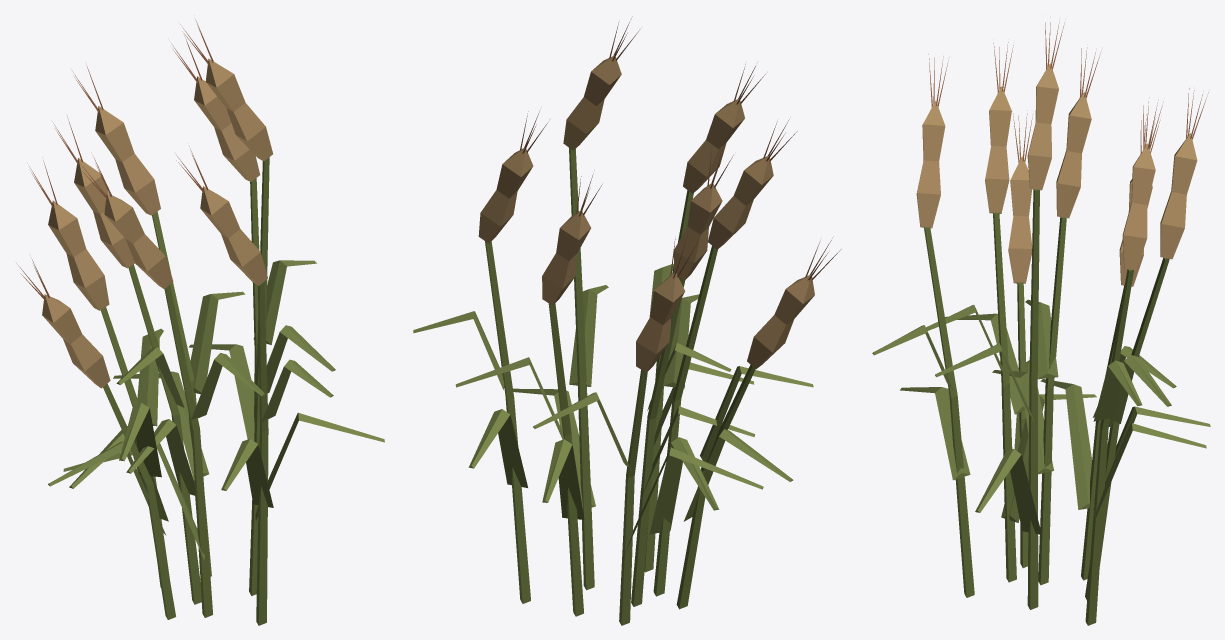
File: wheat-crop.glb
3 renders of one model, left to right at view 1: azimuth 30°, elevation 25°; view 2: azimuth 150°, elevation 25°; view 3: azimuth 270°, elevation 25°, orthographic. The views are drawn at different scales.
Visible parts, largest first — view 1: wheat-plant, yield-3-mesh, yield-5-mesh, yield-0-mesh, yield-4-mesh, yield-2-mesh, yield-6-mesh, yield-7-mesh, yield-1-mesh; view 2: wheat-plant, yield-6-mesh, yield-5-mesh, yield-2-mesh, yield-4-mesh, yield-0-mesh, yield-7-mesh, yield-1-mesh, yield-3-mesh; view 3: wheat-plant, yield-1-mesh, yield-3-mesh, yield-7-mesh, yield-0-mesh, yield-4-mesh, yield-2-mesh, yield-6-mesh, yield-5-mesh.
Boxes of the visible parts, box(x1,y1,x2,y2) form: wheat-plant: box(48, 157, 384, 625); yield-3-mesh: box(72, 65, 160, 215); yield-5-mesh: box(29, 160, 109, 310); yield-0-mesh: box(180, 19, 272, 161); yield-4-mesh: box(175, 146, 267, 285); yield-2-mesh: box(78, 152, 173, 289); yield-6-mesh: box(16, 258, 110, 388); yield-7-mesh: box(171, 35, 260, 181); yield-1-mesh: box(52, 116, 134, 268); wheat-plant: box(413, 148, 813, 625); yield-6-mesh: box(747, 236, 841, 368); yield-5-mesh: box(636, 234, 696, 372); yield-2-mesh: box(708, 119, 797, 249); yield-4-mesh: box(683, 64, 765, 193); yield-0-mesh: box(563, 16, 640, 150); yield-7-mesh: box(478, 111, 547, 243); yield-1-mesh: box(673, 147, 733, 280); yield-3-mesh: box(542, 174, 602, 305); wheat-plant: box(872, 189, 1210, 625); yield-1-mesh: box(1056, 47, 1101, 218); yield-3-mesh: box(1160, 88, 1208, 259); yield-7-mesh: box(1122, 97, 1163, 270); yield-0-mesh: box(1027, 17, 1064, 190); yield-4-mesh: box(916, 54, 949, 228); yield-2-mesh: box(985, 42, 1013, 213); yield-6-mesh: box(1008, 110, 1033, 283); yield-5-mesh: box(1119, 115, 1160, 286).
Bounding box in the file's own units: 0.5765 × 0.8861 × 0.477.
